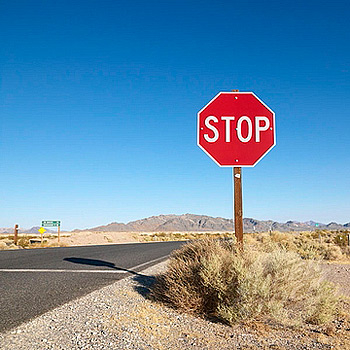stopsign: (196, 90, 278, 168)
